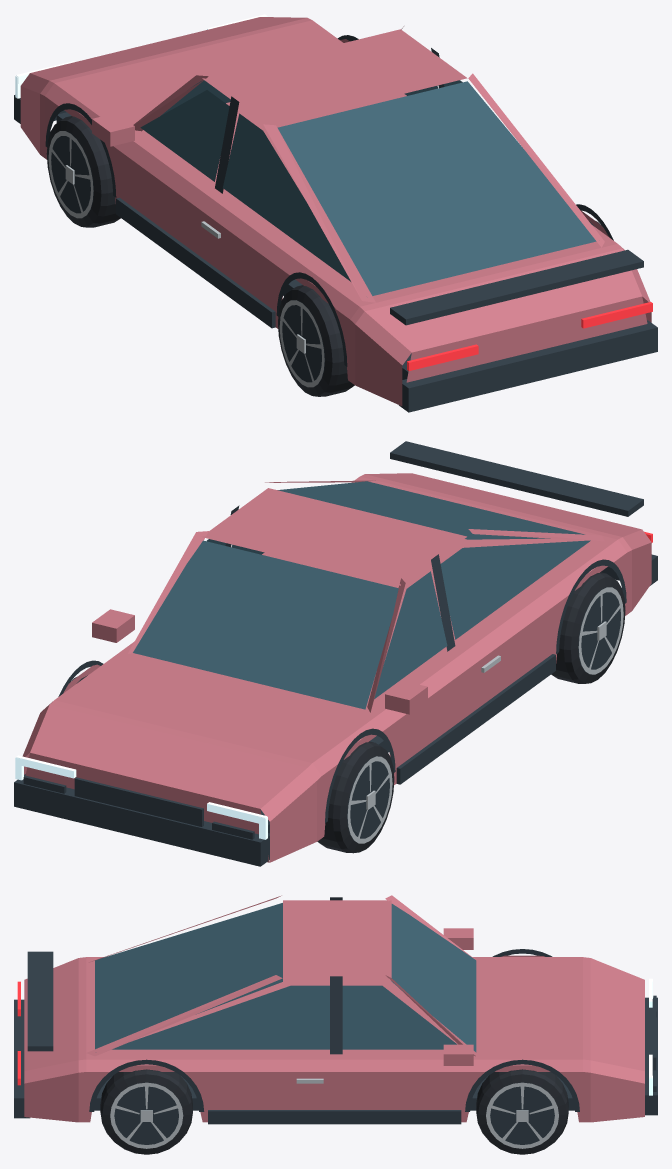
File: aero_f.glb
3 renders of one model, top to bottom at view 1: azimuth 30°, elevation 25°; view 2: azimuth 150°, elevation 25°; view 3: azimuth 270°, elevation 25°, orthographic. The views are drawn at different scales.
Visible parts, largest first — view 1: Body, Wheel_2, Wheel_0; view 2: Body, Wheel_0, Wheel_2; view 3: Body, Wheel_1, Wheel_3.
Boxes of the visible parts, x1,y1,x2,y2 form: Body: [14, 14, 657, 412]; Wheel_2: [278, 285, 354, 396]; Wheel_0: [46, 116, 120, 227]; Body: [14, 441, 657, 866]; Wheel_0: [317, 741, 394, 853]; Wheel_2: [551, 572, 625, 683]; Body: [14, 895, 657, 1124]; Wheel_1: [476, 1069, 568, 1154]; Wheel_3: [100, 1069, 192, 1154].
Bounding box in the file's own units: 2.19 × 1.31 × 4.73.
